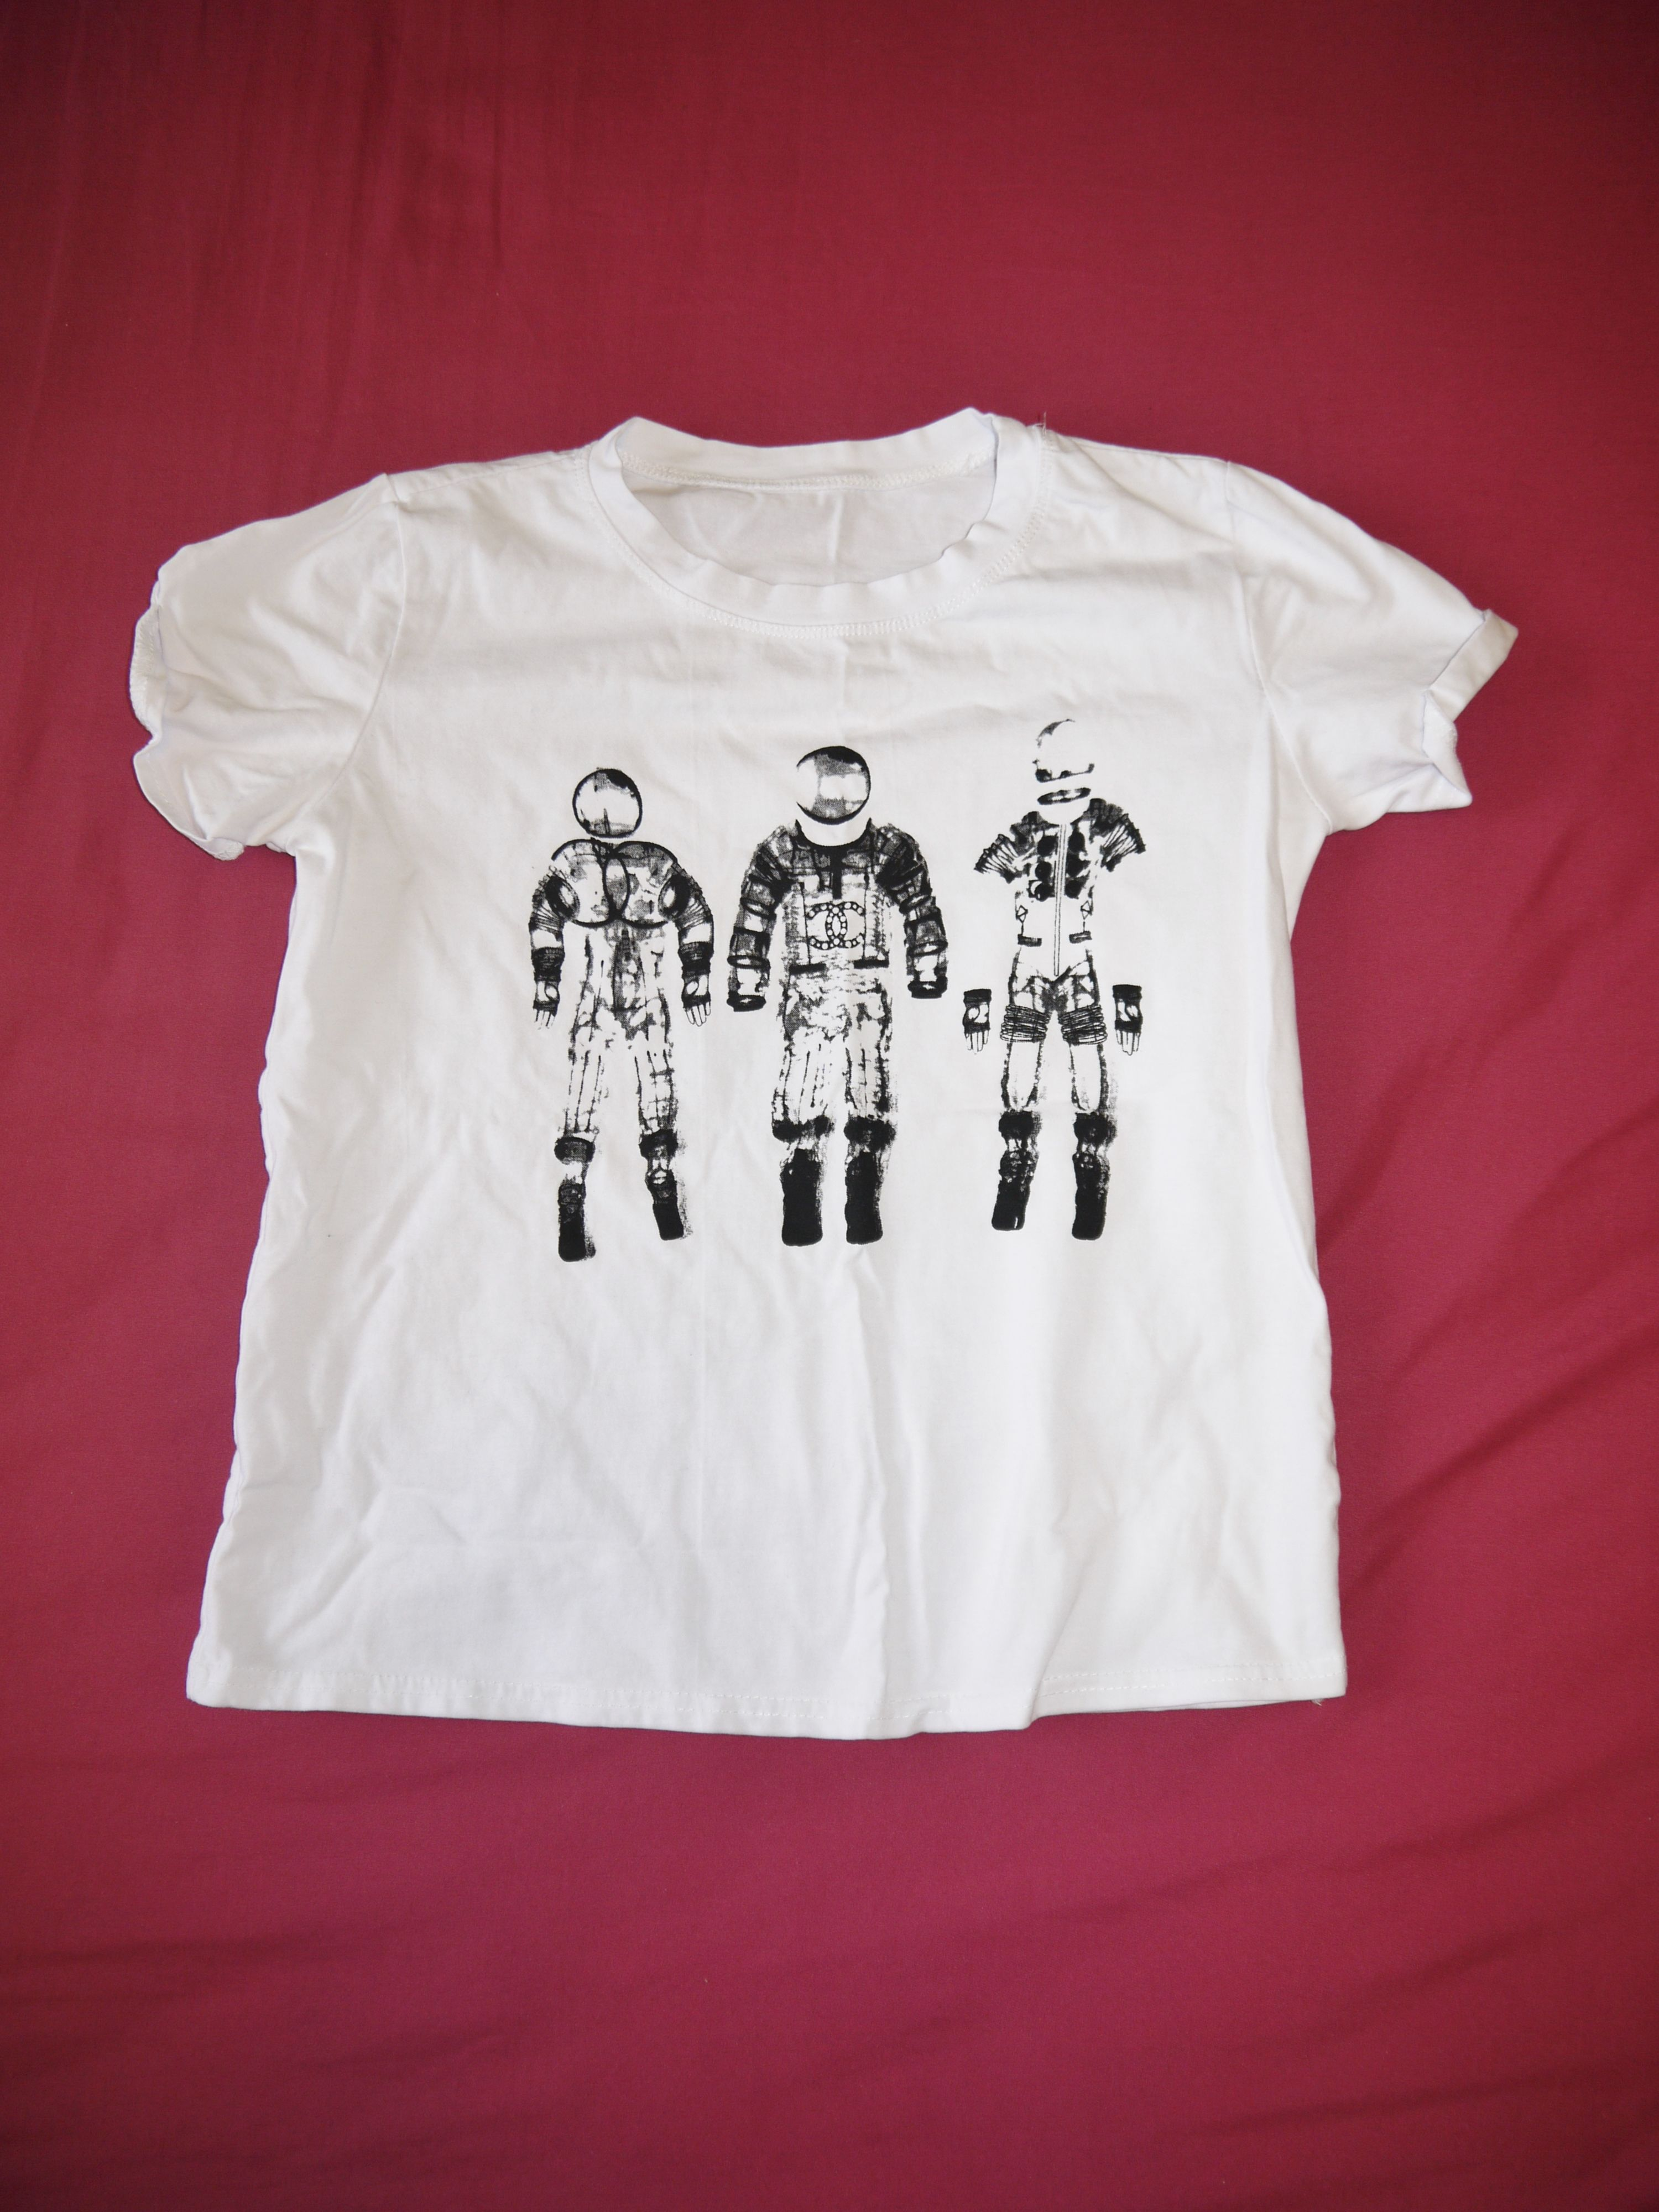clothes: (106, 401, 1527, 1757)
